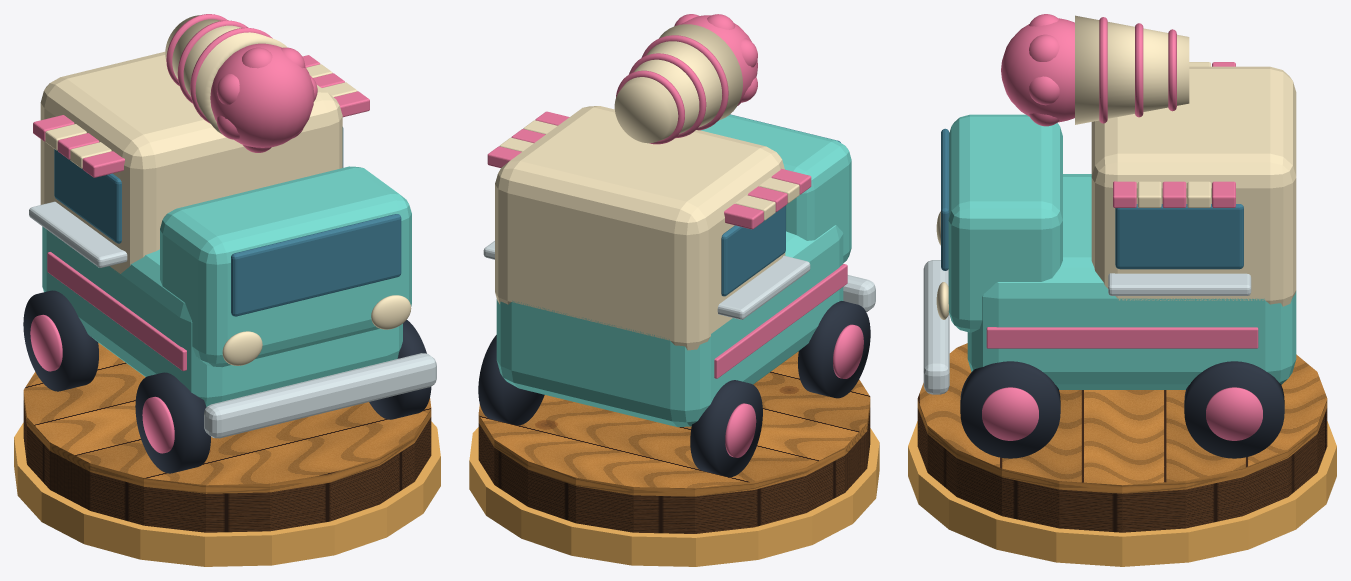
Rendered from IceCreamTruck.glb.
3 views of the same model, side by side, from view 1: azimuth 30°, elevation 25°; view 2: azimuth 150°, elevation 25°; view 3: azimuth 270°, elevation 25° (orthographic). The views are drawn at different scales.
Visible parts, largest first — view 1: IceCreamTruck Head, pedestal, rim; view 2: IceCreamTruck Head, pedestal, rim; view 3: IceCreamTruck Head, pedestal, rim.
Part boxes in pixels (x1=…): IceCreamTruck Head: x1=23, y1=14, x2=436, y2=473; pedestal: x1=23, y1=343, x2=431, y2=532; rim: x1=14, y1=421, x2=440, y2=566; IceCreamTruck Head: x1=478, y1=14, x2=875, y2=477; pedestal: x1=478, y1=351, x2=870, y2=533; rim: x1=469, y1=427, x2=879, y2=566; IceCreamTruck Head: x1=923, y1=14, x2=1296, y2=458; pedestal: x1=917, y1=343, x2=1327, y2=532; rim: x1=908, y1=421, x2=1336, y2=566.
Bounding box in the file's own units: 0.9 × 1.06 × 0.9.
Materials: 9 (2 with a texture image).
